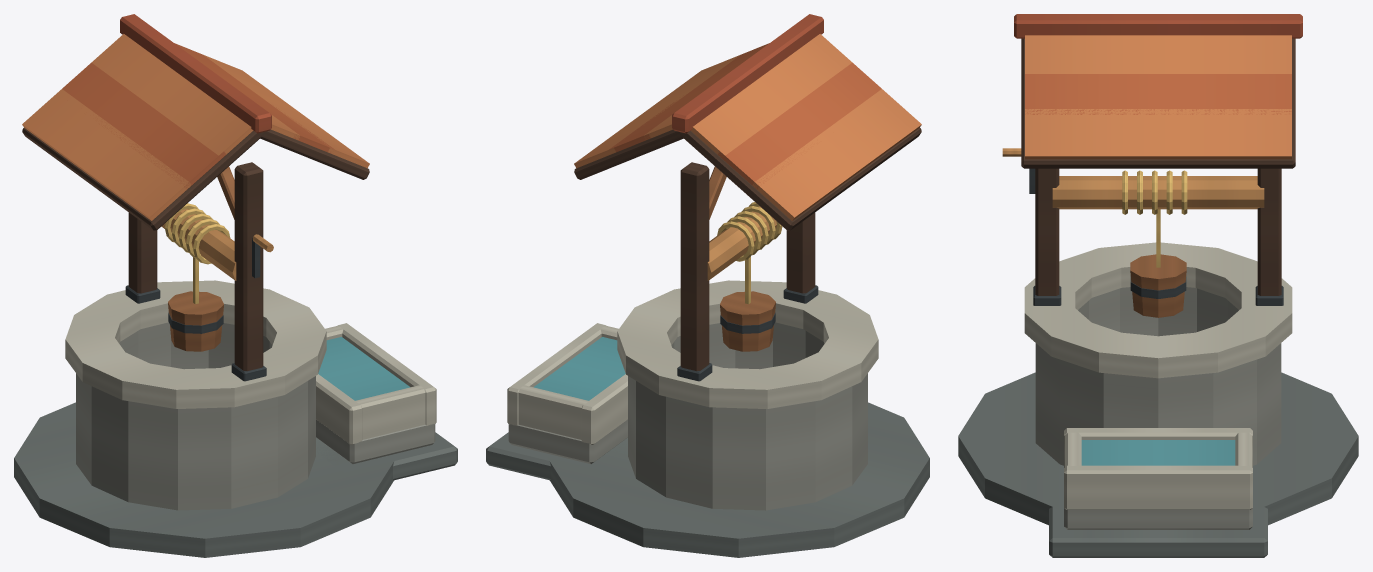
The model's file is wayside_water_well.glb.
The picture shows the model from 3 angles, left to right: view 1: azimuth 30°, elevation 25°; view 2: azimuth 150°, elevation 25°; view 3: azimuth 270°, elevation 25°; orthographic projection. The views are drawn at different scales.
Visible parts, largest first — view 1: wayside_water_well; view 2: wayside_water_well; view 3: wayside_water_well.
Part boxes in pixels (x1,y1,x2,y2): wayside_water_well: (14,14,457,557); wayside_water_well: (486,14,929,557); wayside_water_well: (958,14,1358,557).
Bounding box in the file's own units: 2.4 × 2.59 × 2.16.
1 material, 1 textured.
